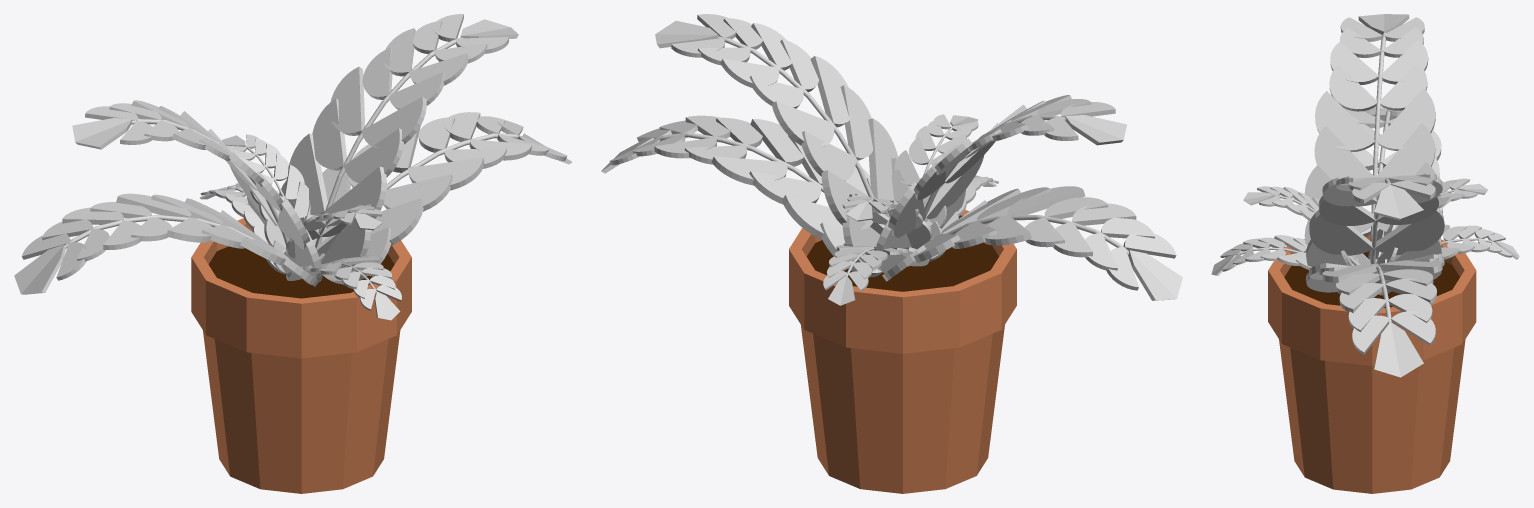
File: pottedPlant.fbx
The picture shows the model from 3 angles, left to right: view 1: azimuth 30°, elevation 25°; view 2: azimuth 150°, elevation 25°; view 3: azimuth 270°, elevation 25°; orthographic projection. The views are drawn at different scales.
Visible parts, largest first — view 1: Cylinder, Cylinder.004, Cylinder.006, Cylinder.005, Cylinder.003, Cylinder.002, Cylinder.008, Cylinder.001, Cylinder.007; view 2: Cylinder, Cylinder.004, Cylinder.006, Cylinder.005, Cylinder.003, Cylinder.001, Cylinder.007, Cylinder.002, Cylinder.008; view 3: Cylinder, Cylinder.003, Cylinder.004, Cylinder.005, Cylinder.008, Cylinder.007, Cylinder.006, Cylinder.001, Cylinder.002.
Boxes of the visible parts, x1,y1,x2,y2 form: Cylinder: (191, 218, 411, 493); Cylinder.004: (279, 14, 518, 271); Cylinder.006: (14, 193, 319, 294); Cylinder.005: (322, 112, 572, 284); Cylinder.003: (72, 100, 322, 284); Cylinder.002: (221, 134, 327, 272); Cylinder.008: (286, 255, 401, 320); Cylinder.001: (281, 204, 382, 273); Cylinder.007: (200, 183, 286, 274); Cylinder: (789, 209, 1016, 493); Cylinder.004: (655, 14, 910, 271); Cylinder.006: (882, 186, 1182, 300); Cylinder.005: (601, 115, 882, 277); Cylinder.003: (875, 95, 1127, 273); Cylinder.001: (884, 114, 978, 239); Cylinder.007: (823, 243, 929, 305); Cylinder.002: (842, 194, 931, 259); Cylinder.008: (920, 175, 998, 261); Cylinder: (1268, 235, 1476, 493); Cylinder.003: (1304, 14, 1440, 264); Cylinder.004: (1306, 173, 1444, 266); Cylinder.005: (1306, 254, 1444, 377); Cylinder.008: (1211, 235, 1311, 275); Cylinder.007: (1376, 224, 1519, 295); Cylinder.006: (1344, 107, 1443, 260); Cylinder.001: (1243, 186, 1358, 265); Cylinder.002: (1367, 178, 1487, 283).
Size of the model in its own units: 465 by 305 by 240.
